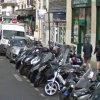Motorcycle: (33, 42, 94, 100)
